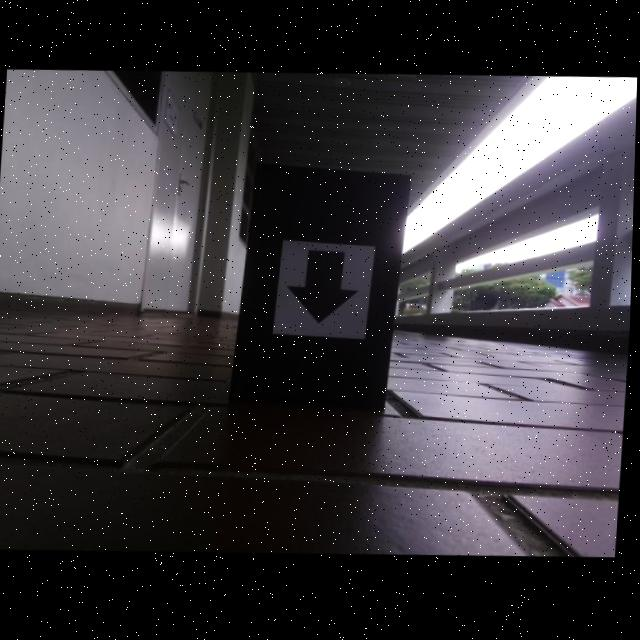DOWN: (287, 251, 361, 327)
